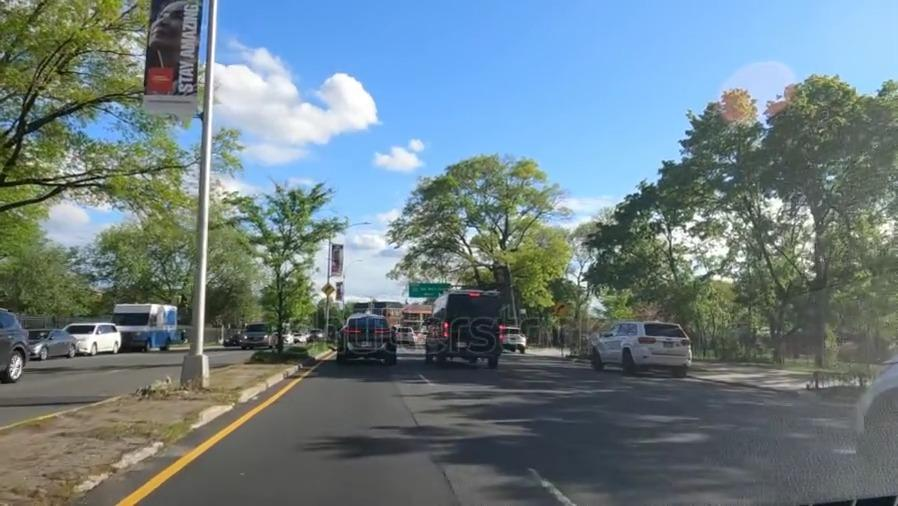car: (841, 347, 898, 458), (589, 319, 698, 377), (343, 314, 399, 363), (0, 307, 36, 383), (29, 323, 80, 362), (62, 320, 120, 354), (241, 323, 274, 345), (502, 327, 529, 351)
van: (423, 287, 508, 363), (103, 301, 182, 348)
wheel: (877, 416, 898, 483), (4, 352, 29, 385)
